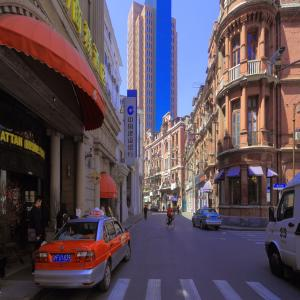Vehicle-registration-plate: (54, 255, 72, 265), (212, 218, 217, 219)
